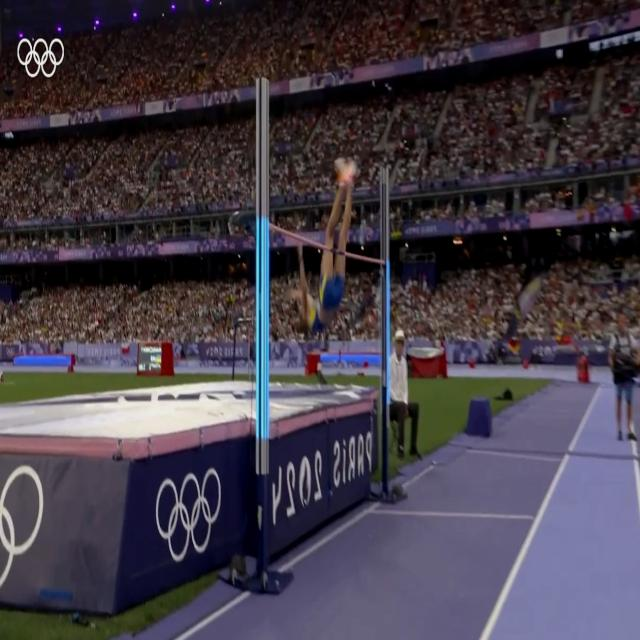land: (297, 156, 357, 333)
